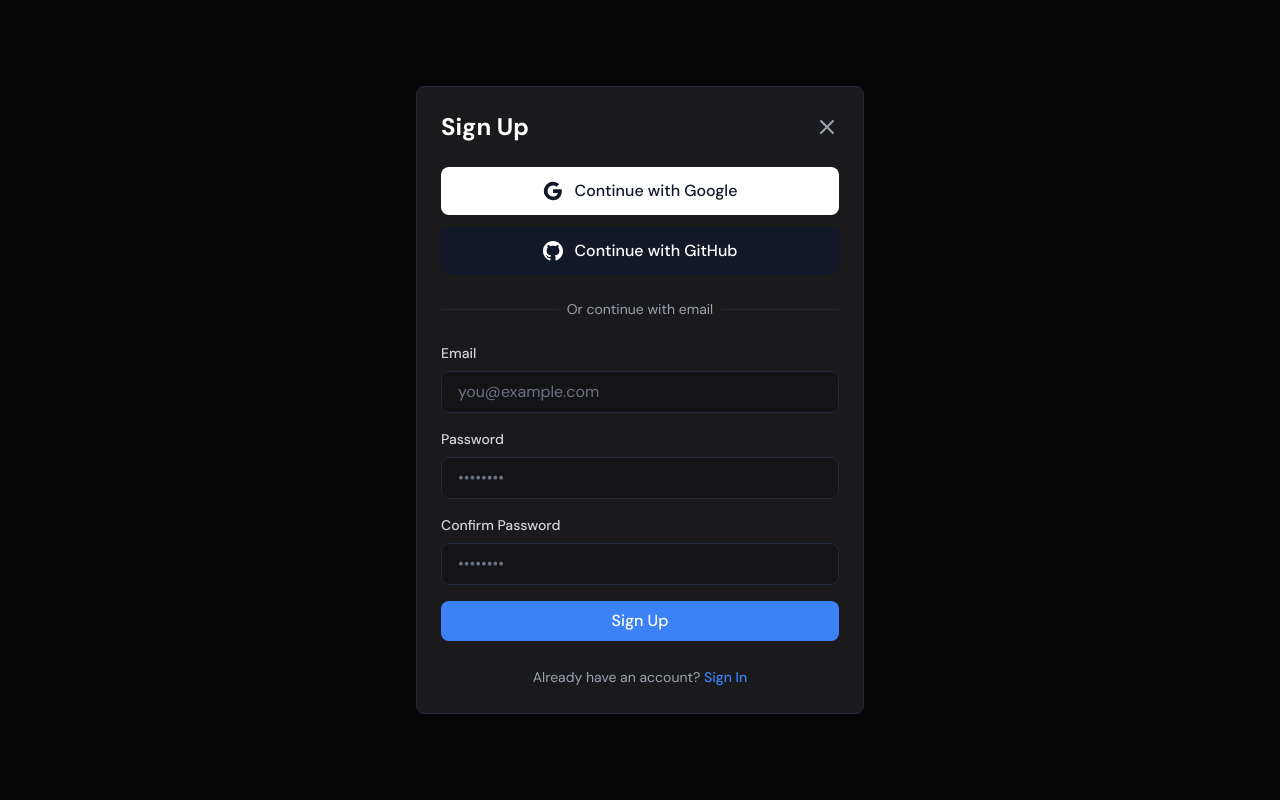
Test: AuthModal › Sign Up Form › validates password match
Type "test@example.com" into the field labelled "Email".
click(640, 392); type("test@example.com")  # box [441,371,839,413]
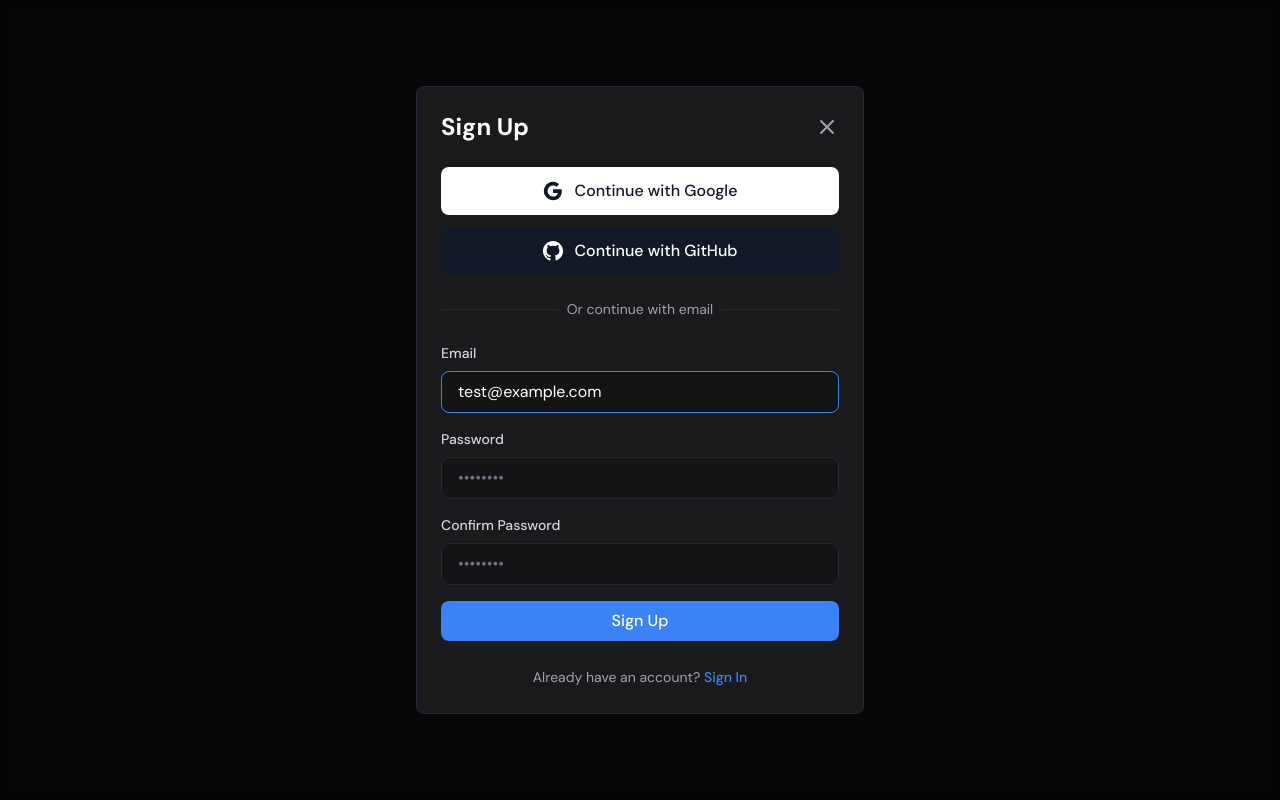
Type "password123" into the password field labelled "Password".
click(640, 478); type("password123")  # box [441,457,839,499]
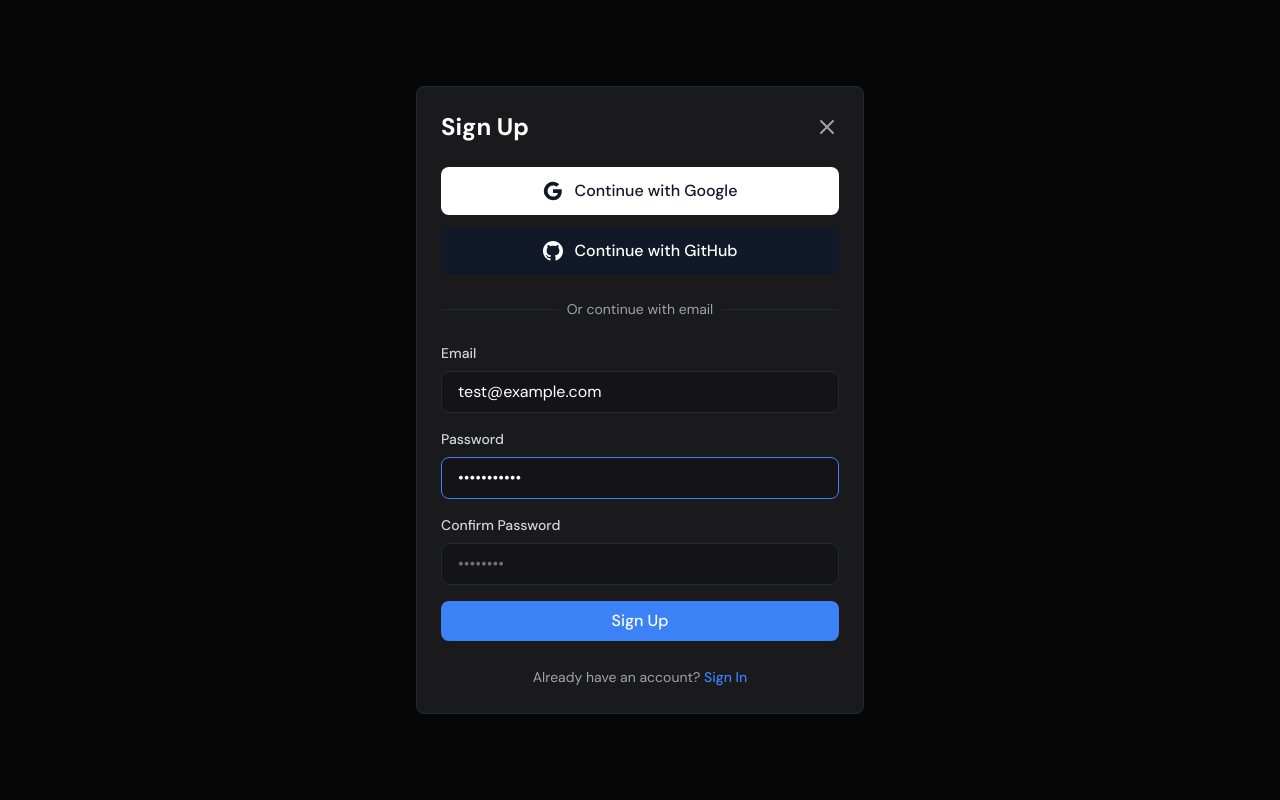
Type "password456" into the password field labelled "Confirm Password".
click(640, 564); type("password456")  # box [441,543,839,585]
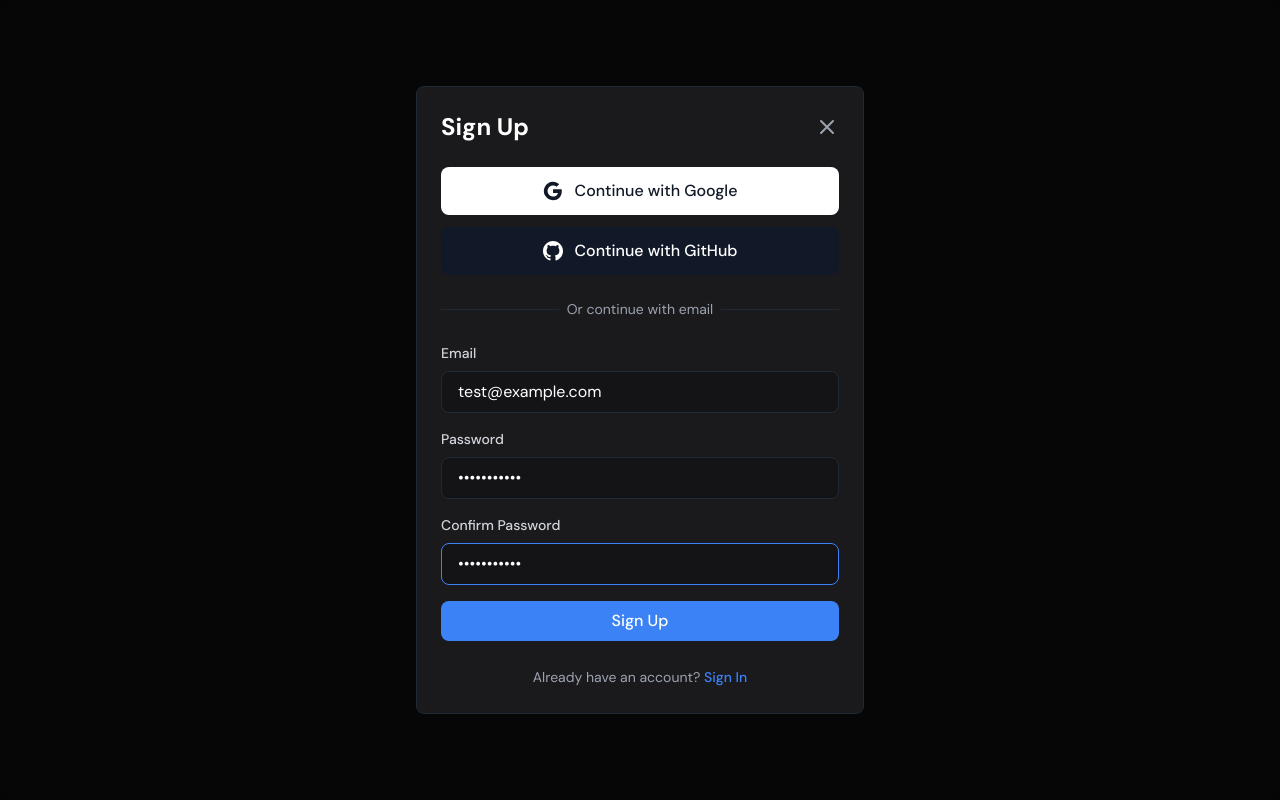
Click the button "Sign Up".
click(640, 621)  # box [441,601,839,641]
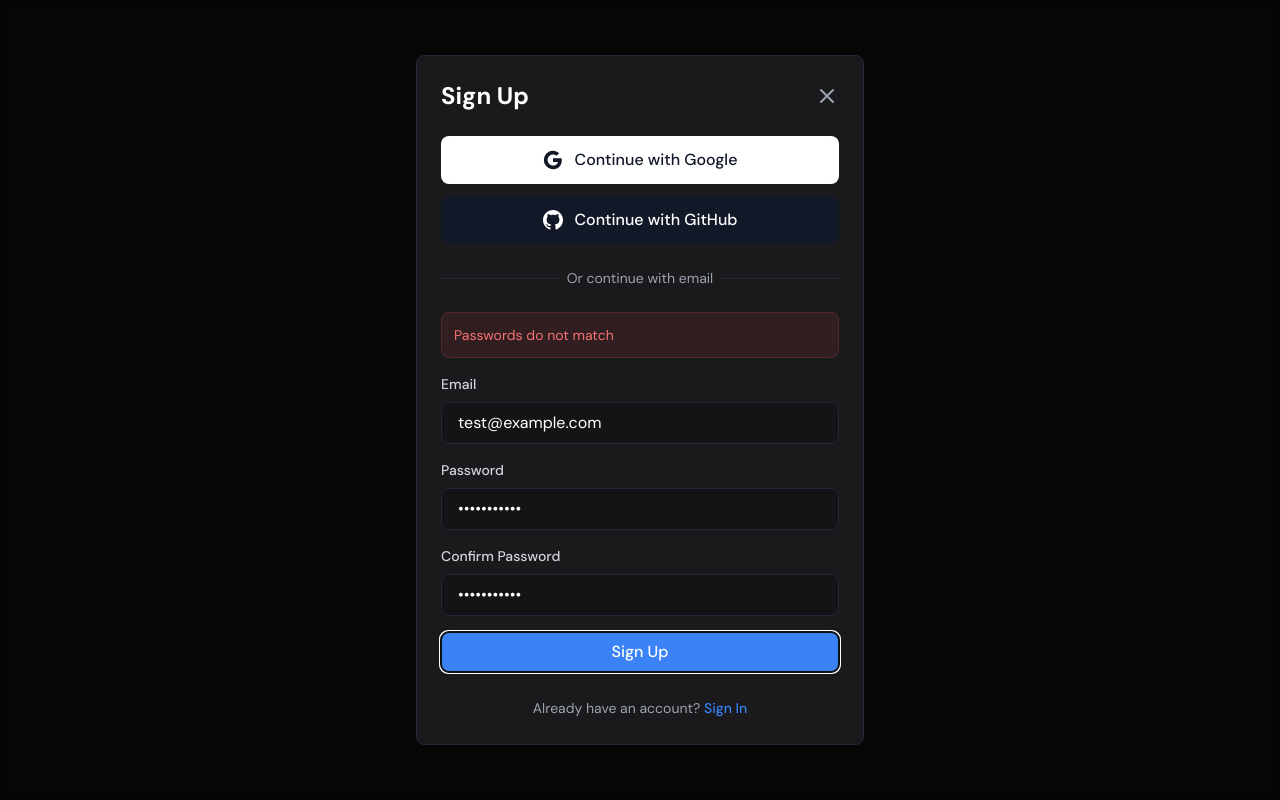
Result: the text "Passwords do not match" is shown at [441,312,839,358]
